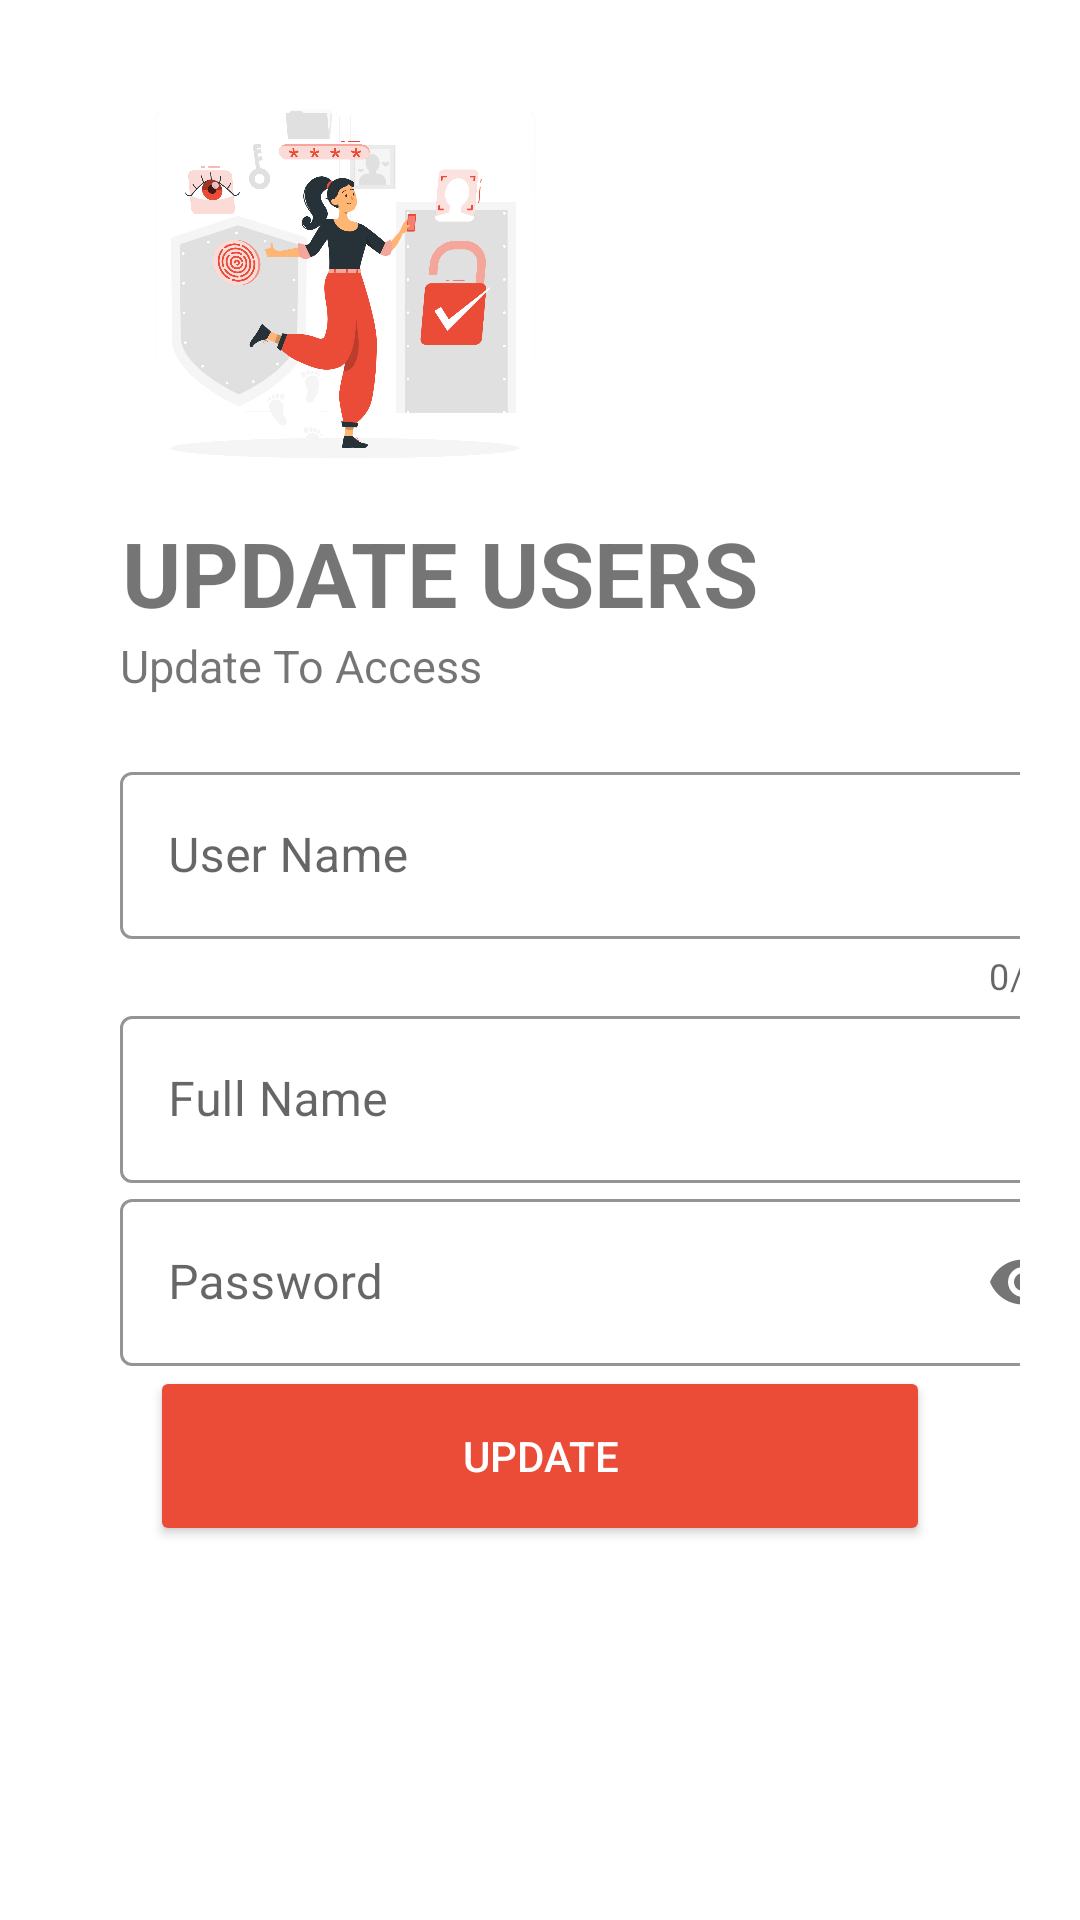

Locate icon controls on the screen. Image size 1080x1920, boxes as (x1,y1,x2,y2).
access animi: (180,111,508,448)
